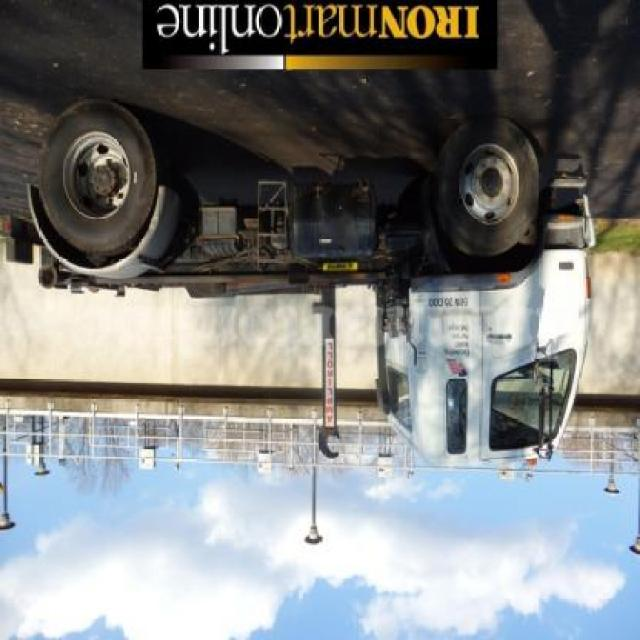truck: (27, 97, 601, 471)
